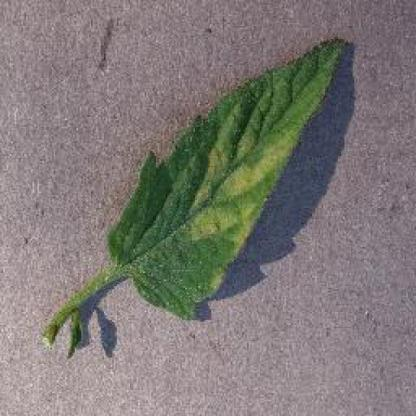Tomato_Leaf_Mold: (115, 40, 344, 316)
